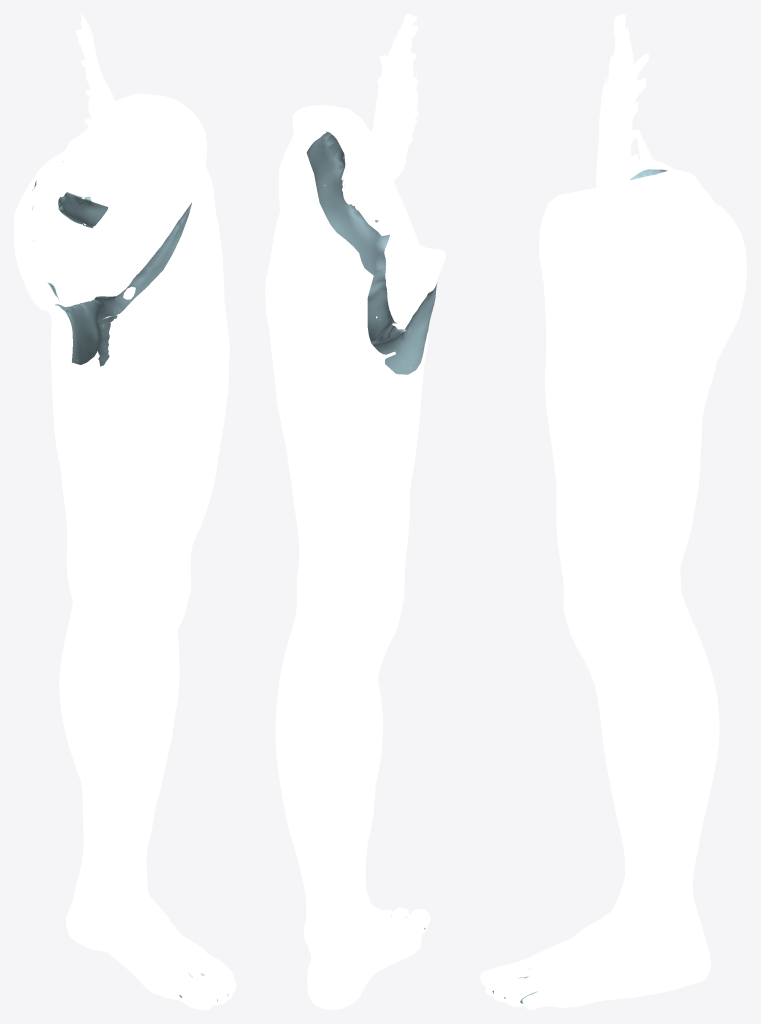
Rendered from left-lower-limb.glb.
3 views of the same model, side by side, from view 1: azimuth 30°, elevation 25°; view 2: azimuth 150°, elevation 25°; view 3: azimuth 270°, elevation 25° (orthographic). The views are drawn at different scales.
Parts seen in each view (by area): view 1: Anterior region of thigh.l, Anterior region of leg.l, Anterior region of knee.l, Psoas major.l, Iliacus muscle.l, Gluteal region.l, Fascia lata.l, Posterior region of thigh.l, Hip bone.l, Femoral triangle.l, Posterior region of leg.l, Gluteus maximus muscle.l (+15 smaller); view 2: Posterior region of thigh.l, Posterior region of leg.l, Gluteal region.l, Fascia lata.l, Posterior region of knee.l, Psoas major.l, Hip bone.l, Anterior region of thigh.l, Heel region.l, Medial retromalleolar region.l, Popliteal fossa.l, Obturator internus.l (+10 smaller); view 3: Anterior region of thigh.l, Posterior region of thigh.l, Gluteal region.l, Posterior region of leg.l, Anterior region of leg.l, Hip region.l, Posterior region of knee.l, Anterior region of knee.l, Psoas major.l, Metatarsal region.l, Lateral border of foot.l, Dorsal surfaces of digits of foot.l (+6 smaller).
Boxes of the visible parts, left/top/right/bottom form: Anterior region of thigh.l: left=69, top=96, right=229, bottom=570; Anterior region of leg.l: left=74, top=637, right=179, bottom=860; Anterior region of knee.l: left=77, top=552, right=190, bottom=656; Psoas major.l: left=75, top=14, right=142, bottom=272; Iliacus muscle.l: left=122, top=123, right=187, bottom=271; Gluteal region.l: left=14, top=93, right=170, bottom=313; Fascia lata.l: left=32, top=161, right=191, bottom=366; Posterior region of thigh.l: left=50, top=301, right=79, bottom=551; Hip bone.l: left=73, top=113, right=196, bottom=301; Femoral triangle.l: left=120, top=215, right=190, bottom=368; Posterior region of leg.l: left=59, top=611, right=92, bottom=857; Gluteus maximus muscle.l: left=39, top=168, right=92, bottom=303; Posterior region of thigh.l: left=266, top=314, right=418, bottom=581; Posterior region of leg.l: left=275, top=656, right=379, bottom=910; Gluteal region.l: left=265, top=120, right=395, bottom=367; Fascia lata.l: left=306, top=131, right=437, bottom=374; Posterior region of knee.l: left=284, top=555, right=401, bottom=674; Psoas major.l: left=365, top=14, right=418, bottom=234; Hip bone.l: left=321, top=118, right=445, bottom=313; Anterior region of thigh.l: left=292, top=104, right=428, bottom=567; Heel region.l: left=307, top=954, right=368, bottom=1009; Medial retromalleolar region.l: left=328, top=909, right=374, bottom=966; Popliteal fossa.l: left=301, top=565, right=359, bottom=613; Obturator internus.l: left=384, top=238, right=417, bottom=300; Anterior region of thigh.l: left=540, top=175, right=653, bottom=599; Posterior region of thigh.l: left=617, top=359, right=716, bottom=598; Gluteal region.l: left=629, top=169, right=746, bottom=364; Posterior region of leg.l: left=642, top=655, right=719, bottom=901; Anterior region of leg.l: left=594, top=684, right=656, bottom=900; Hip region.l: left=578, top=278, right=673, bottom=372; Posterior region of knee.l: left=624, top=587, right=705, bottom=692; Anterior region of knee.l: left=563, top=582, right=642, bottom=693; Psoas major.l: left=596, top=14, right=649, bottom=187; Metatarsal region.l: left=535, top=927, right=625, bottom=992; Lateral border of foot.l: left=559, top=959, right=673, bottom=1007; Dorsal surfaces of digits of foot.l: left=480, top=954, right=568, bottom=1003.
Bounding box in the file's own units: 0.1818 × 1.16 × 0.294.
